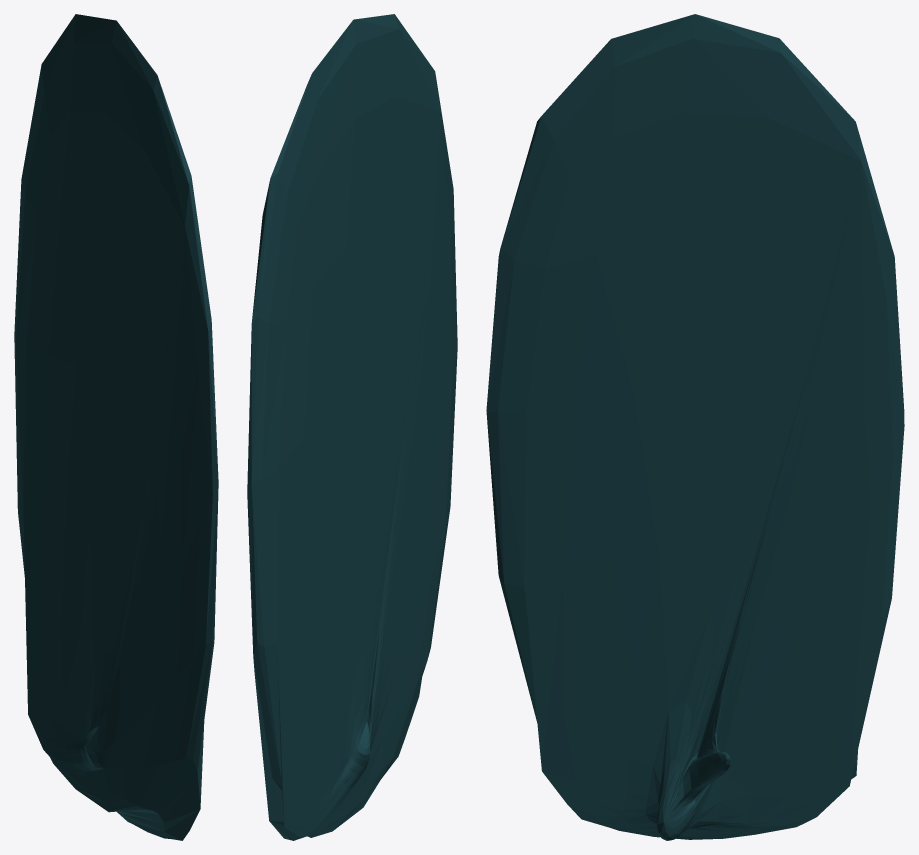
The picture shows the model from 3 angles, left to right: view 1: azimuth 30°, elevation 25°; view 2: azimuth 150°, elevation 25°; view 3: azimuth 270°, elevation 25°; orthographic projection. The views are drawn at different scales.
Parts seen in each view (by area): view 1: 904_Cube.3650; view 2: 904_Cube.3650; view 3: 904_Cube.3650.
Boxes of the visible parts, box(x1,y1,x2,y2) form: 904_Cube.3650: box(14, 14, 218, 840); 904_Cube.3650: box(247, 14, 457, 840); 904_Cube.3650: box(486, 14, 904, 840).
Size of the model in its own units: 1.48 by 11.14 by 5.14.
